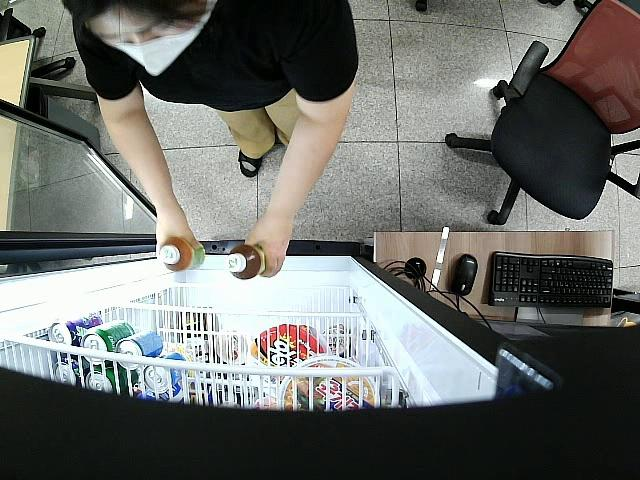00_hand: (246, 211, 286, 277), (156, 210, 201, 264)
19_17cha: (157, 236, 207, 279), (224, 243, 269, 281)
